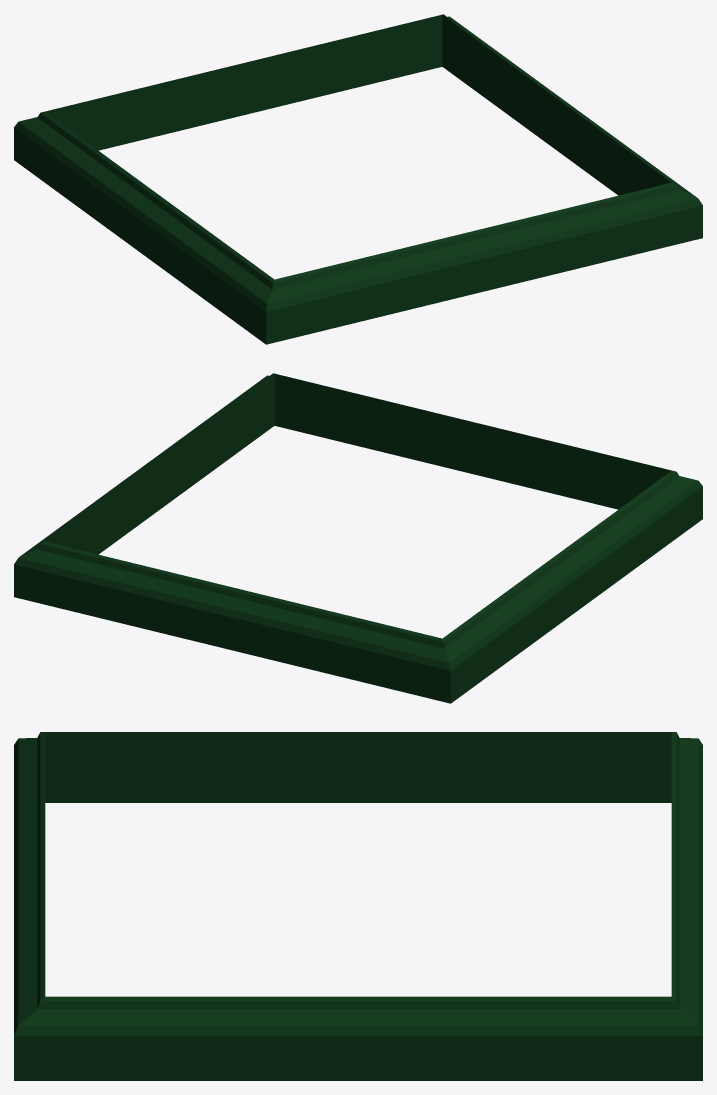
File: board.fbx
3 views of the same model, one above another, from view 1: azimuth 30°, elevation 25°; view 2: azimuth 150°, elevation 25°; view 3: azimuth 270°, elevation 25° (orthographic). The views are drawn at different scales.
Parts seen in each view (by area): view 1: waku; view 2: waku; view 3: waku.
Boxes of the visible parts, x1,y1,x2,y2 form: waku: (14,14,702,344); waku: (14,373,702,703); waku: (14,732,702,1080).
Size of the model in its own units: 1760 by 200 by 1760.
